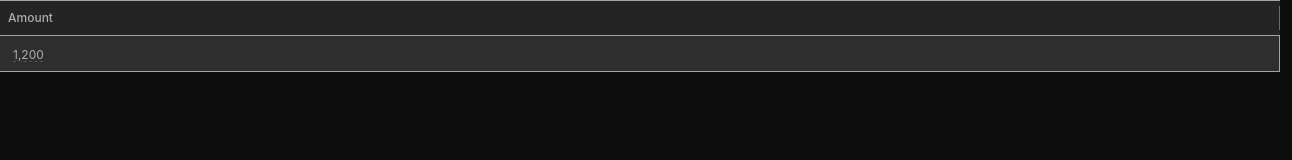
DataGrid number formatting › shows thousand separators when not editing and raw digits in editing mode
The image size is (1292, 160).
Later steps or results of the test are not shown.
Press the mouse on the field at (640, 54), box [8,40,1272,68]
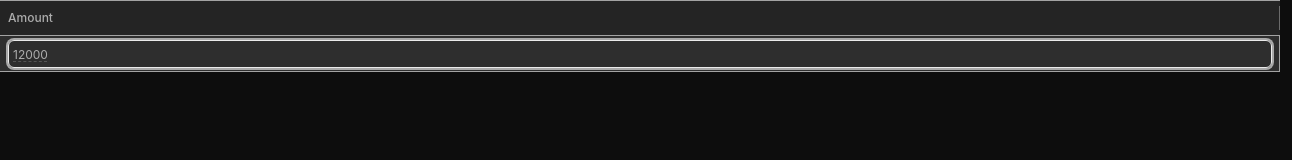
Result: the number field has attribute data-grid-editing="true" at [8,40,1272,68]
